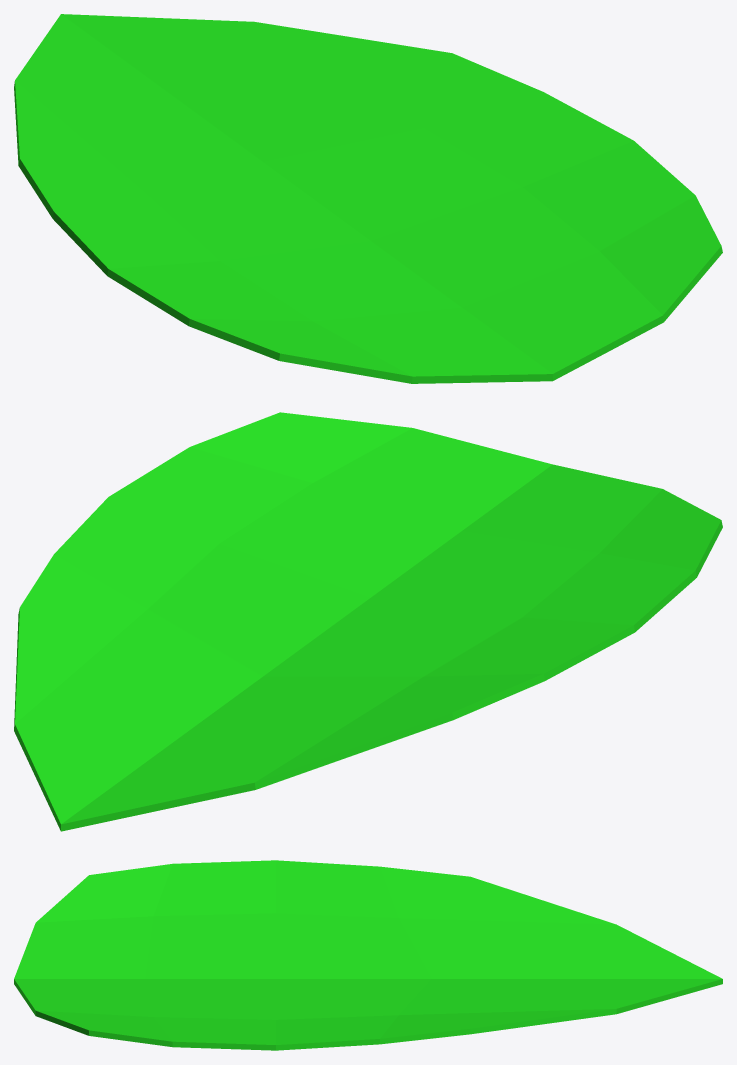
The model's file is leaf.glb.
The picture shows the model from 3 angles, top to bottom: view 1: azimuth 30°, elevation 25°; view 2: azimuth 150°, elevation 25°; view 3: azimuth 270°, elevation 25°; orthographic projection. The views are drawn at different scales.
Parts seen in each view (by area): view 1: Leaf; view 2: Leaf; view 3: Leaf.
Part boxes in pixels (bbox=[...]): Leaf: bbox=[14, 14, 722, 383]; Leaf: bbox=[14, 412, 722, 831]; Leaf: bbox=[14, 860, 722, 1050].
Bounding box in the file's own units: 0.0817 × 0.00644 × 0.1319.
